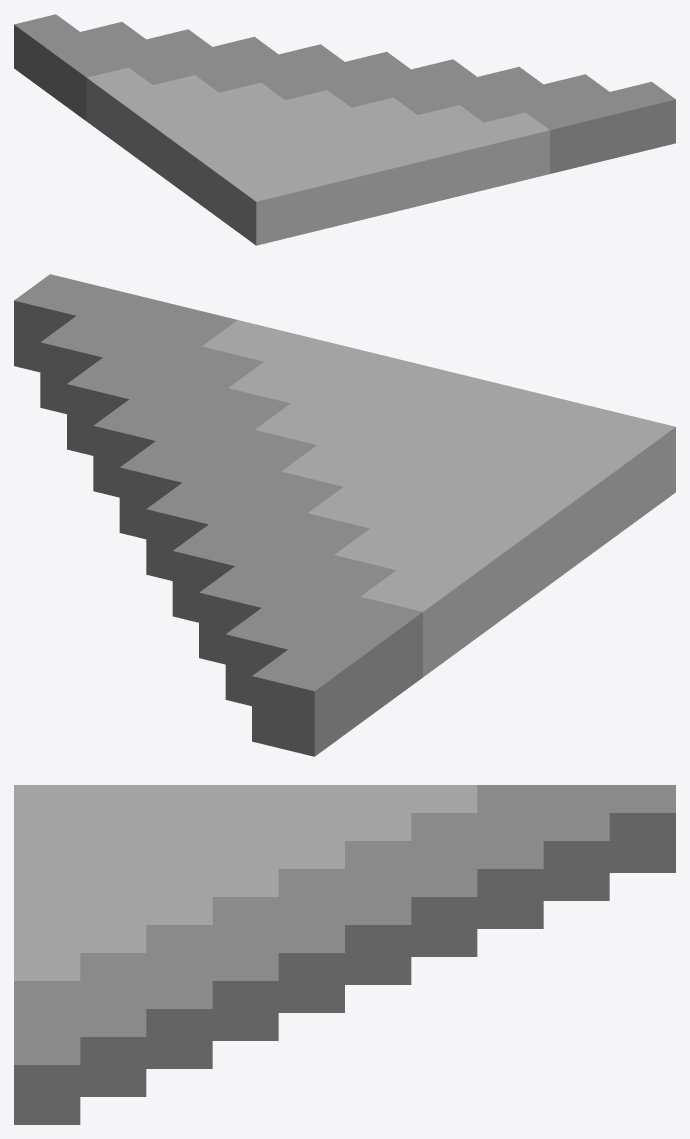
The model's file is path_gray_cornor_big.obj.
The picture shows the model from 3 angles, top to bottom: view 1: azimuth 30°, elevation 25°; view 2: azimuth 150°, elevation 25°; view 3: azimuth 270°, elevation 25°; orthographic projection. The views are drawn at different scales.
Bounding box in the file's own units: 1 × 0.1 × 1.
Materials: 1 (1 with a texture image).
